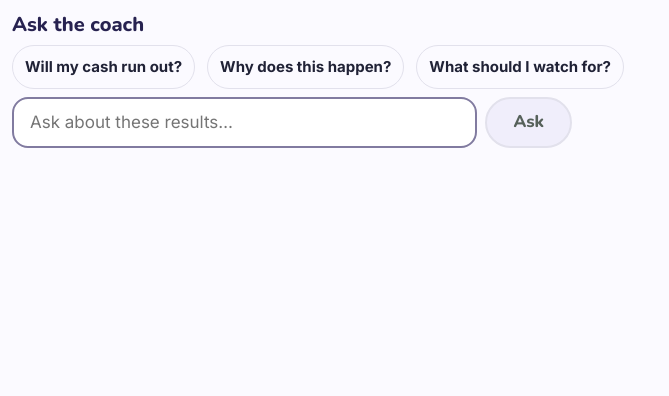
Test: AskCoach › shows the question and the answer as chat bubbles, newest first
Click the button "Will my cash run out?" at point(104, 67), box [12,45,195,89]
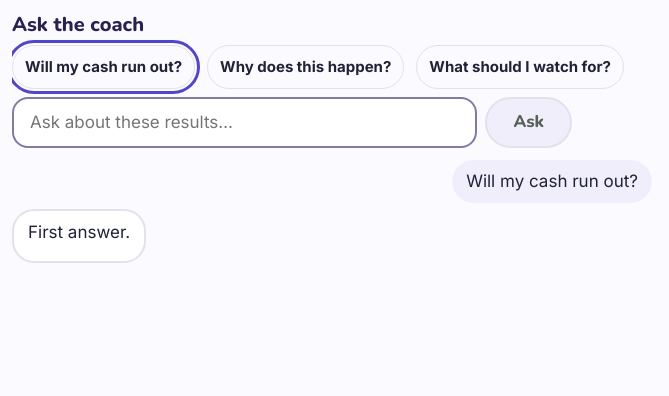
Now the text "First answer." is shown, box [28,219,130,247]
Click the button "Why does this happen?" at point(306, 67), box [207,45,404,89]
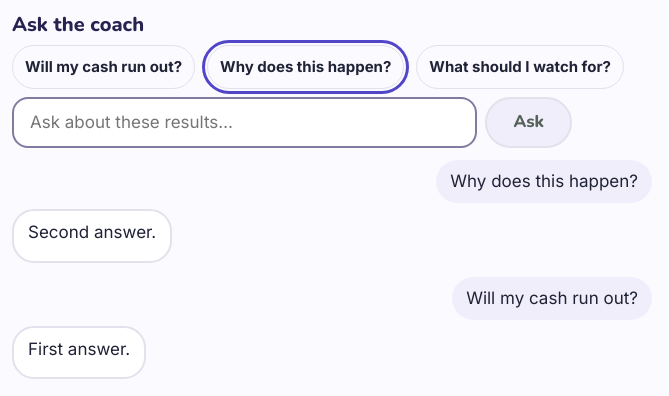
Now the list item "Will my cash run out? First answer." is shown, box [12,277,652,379]
Now the text "Second answer." is shown, box [28,219,156,247]
Now the list item "Why does this happen? Second answer." is shown, box [12,160,652,263]
